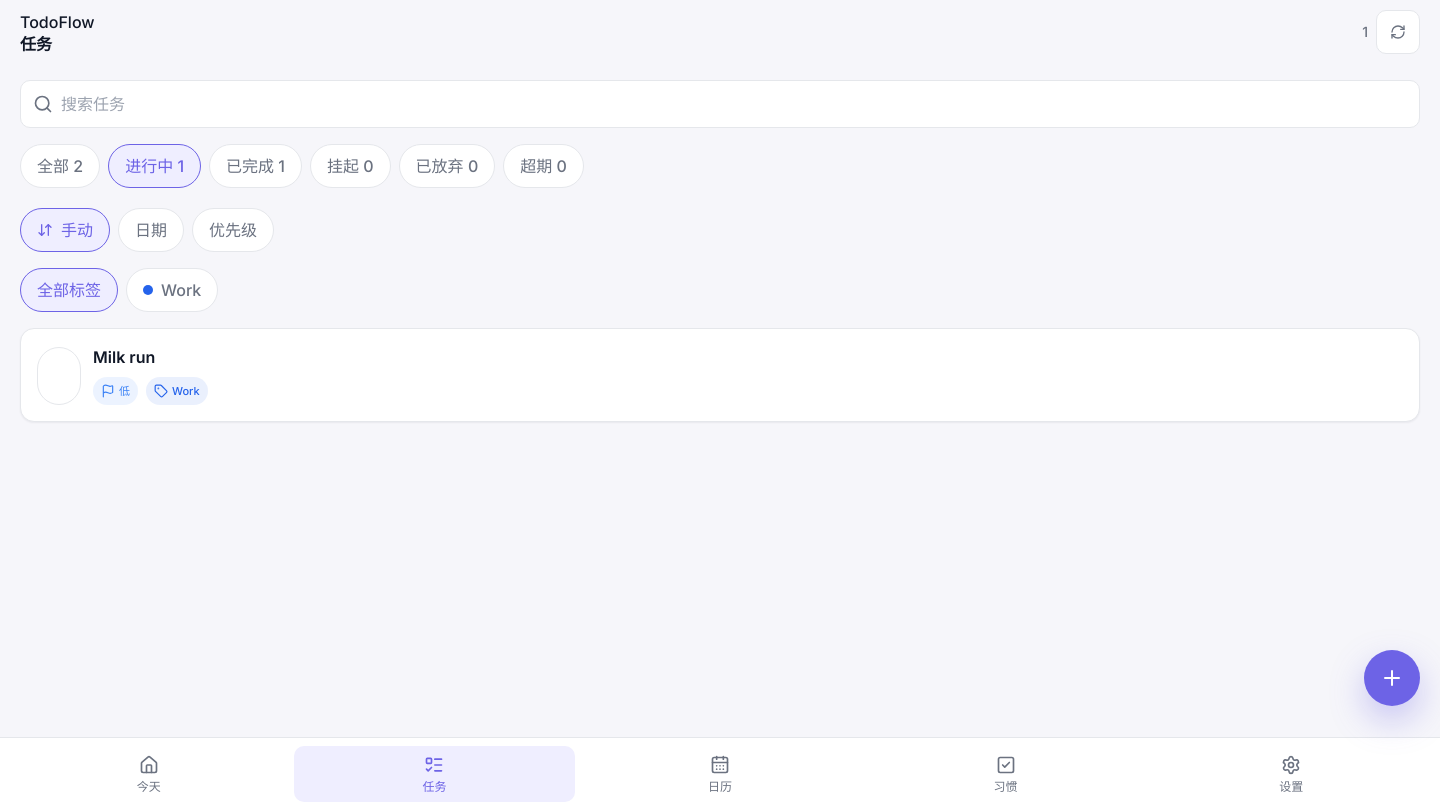
Scenario: Mobile task experience › filters, searches, sorts, and enters tags on the Tasks tab
Step 1. Type "Milk" into the field with placeholder "搜索任务" → {"x": 734, "y": 104}, box [61, 92, 1407, 116]
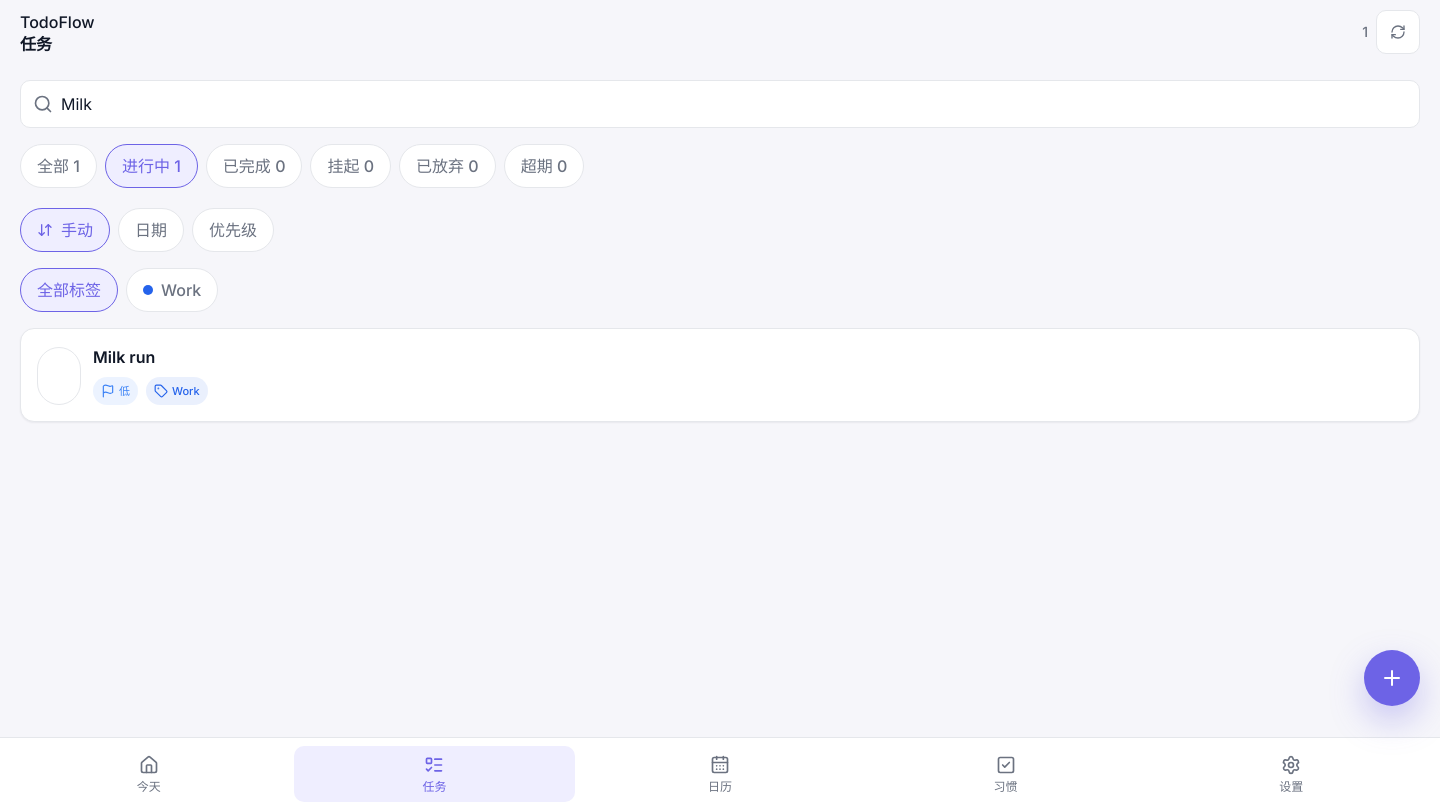
Expected: the heading "Milk run" is shown, [93, 347, 155, 367]
Expected: the text "Done item" is not shown
Step 2. Clear the field with placeholder "搜索任务" → {"x": 734, "y": 104}, box [61, 92, 1407, 116]
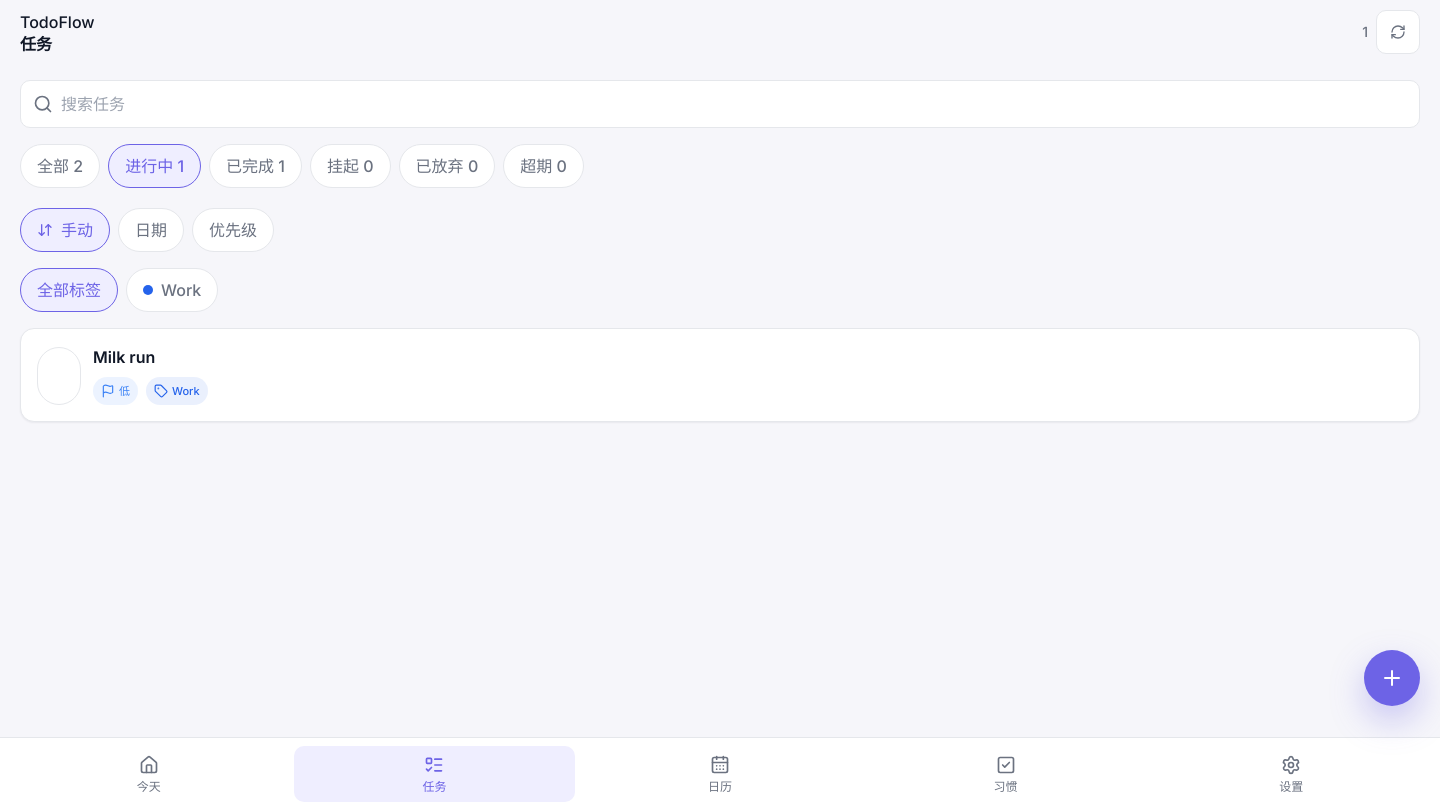
Step 3. Click the button "已完成 1" → {"x": 256, "y": 166}, box [209, 144, 302, 188]
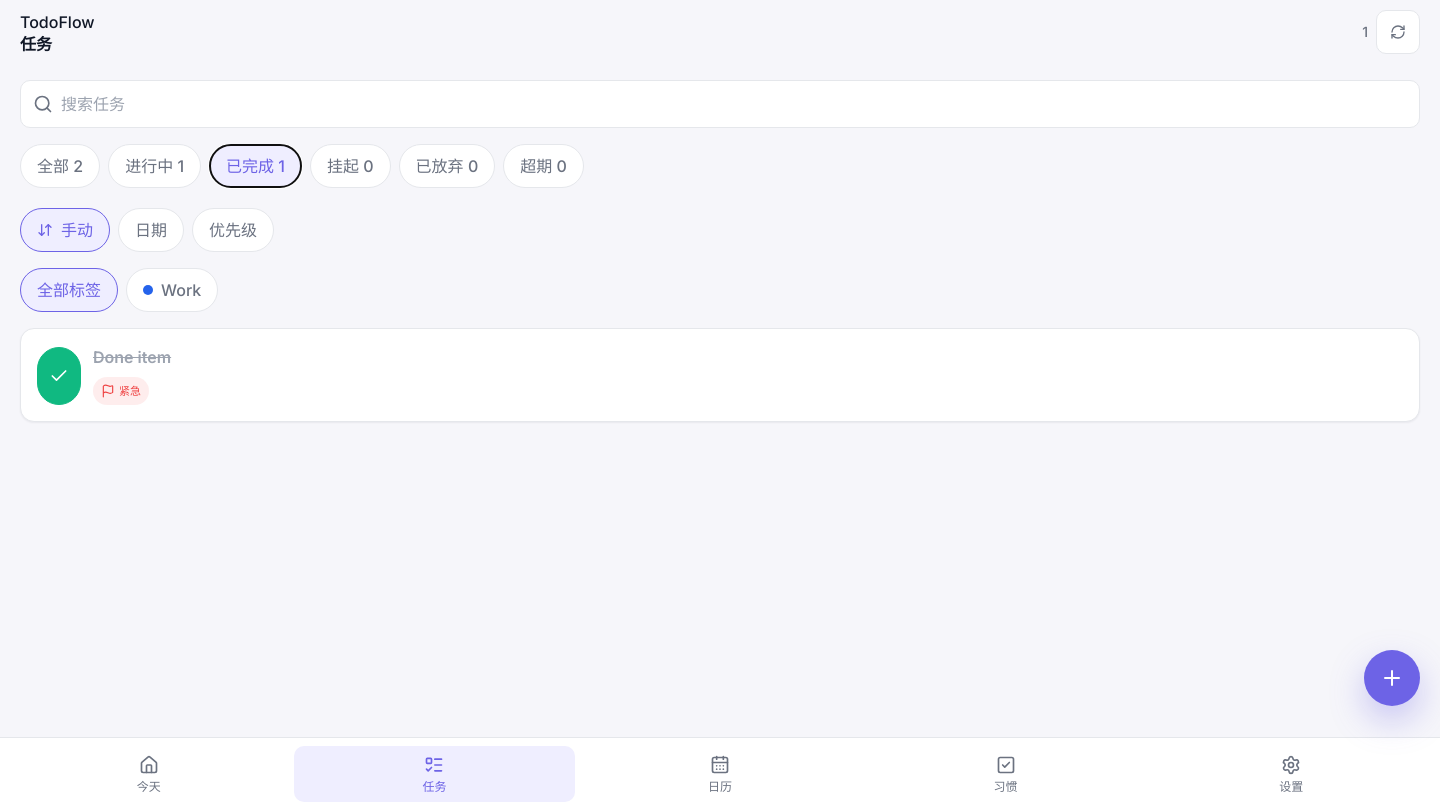
Result: the heading "Done item" is shown at [93, 347, 171, 367]
Step 4. Click the button "全部 2" → {"x": 60, "y": 166}, box [20, 144, 100, 188]
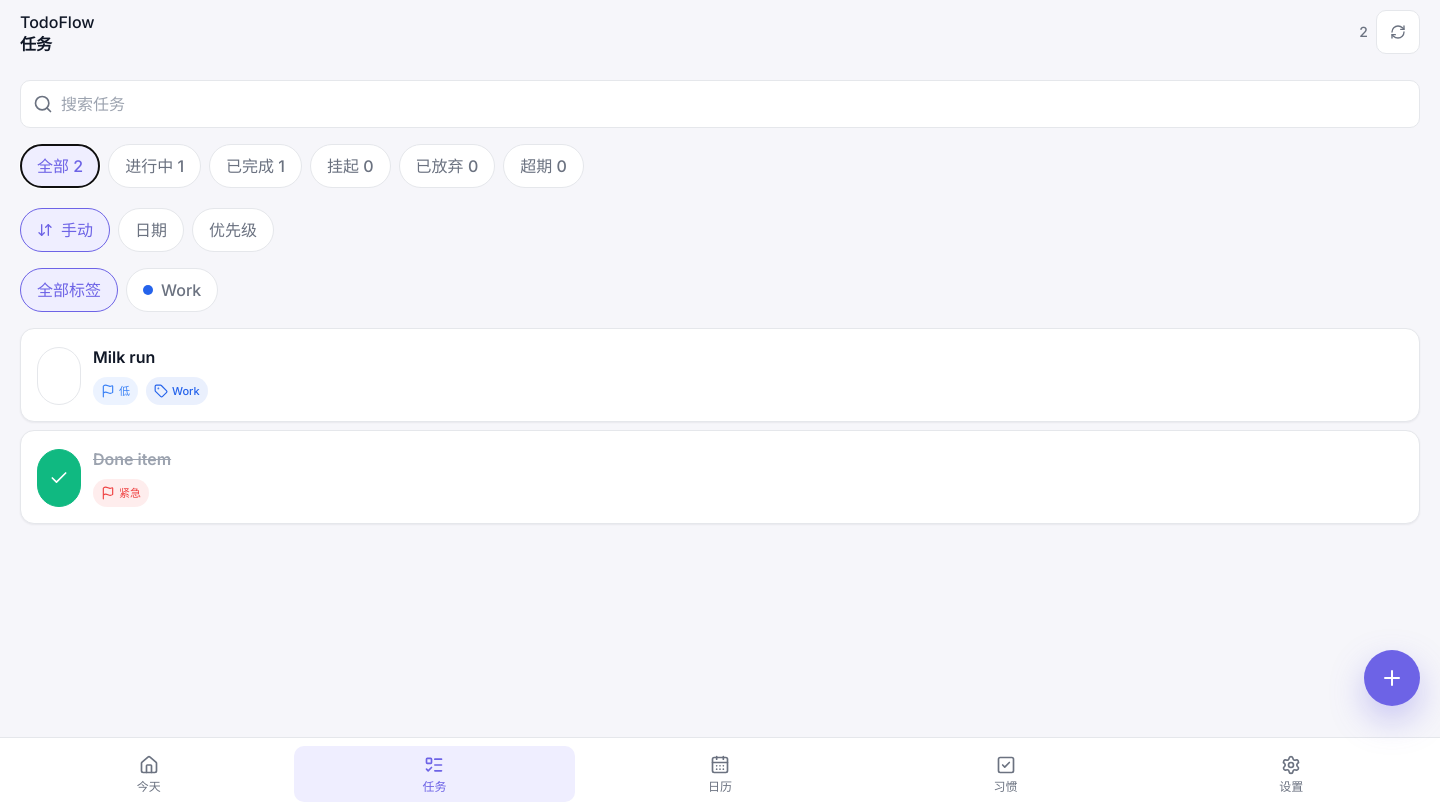
Step 5. Click the button "优先级" → {"x": 233, "y": 230}, box [192, 208, 274, 252]
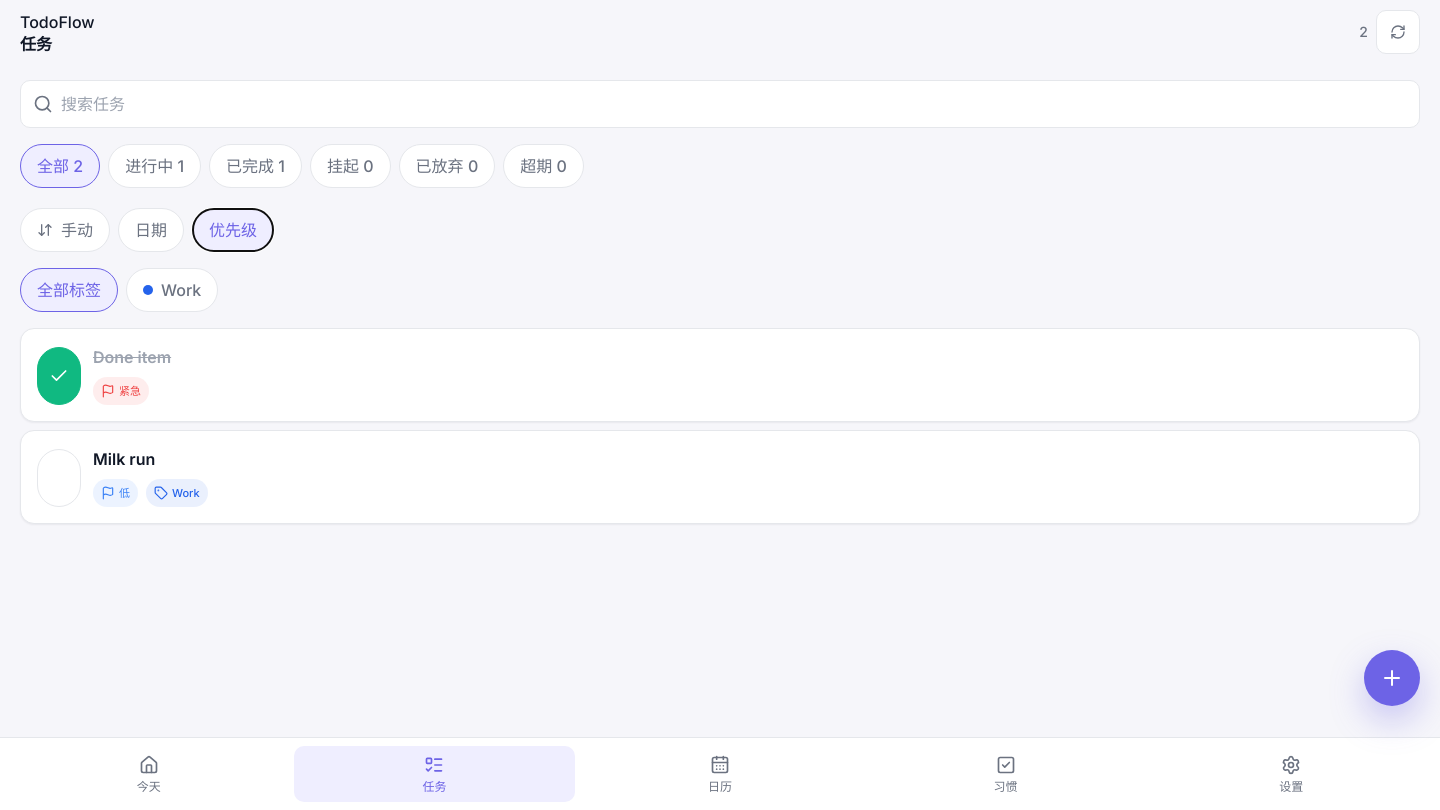
Step 6. Click the button "Work" → {"x": 172, "y": 290}, box [126, 268, 218, 312]
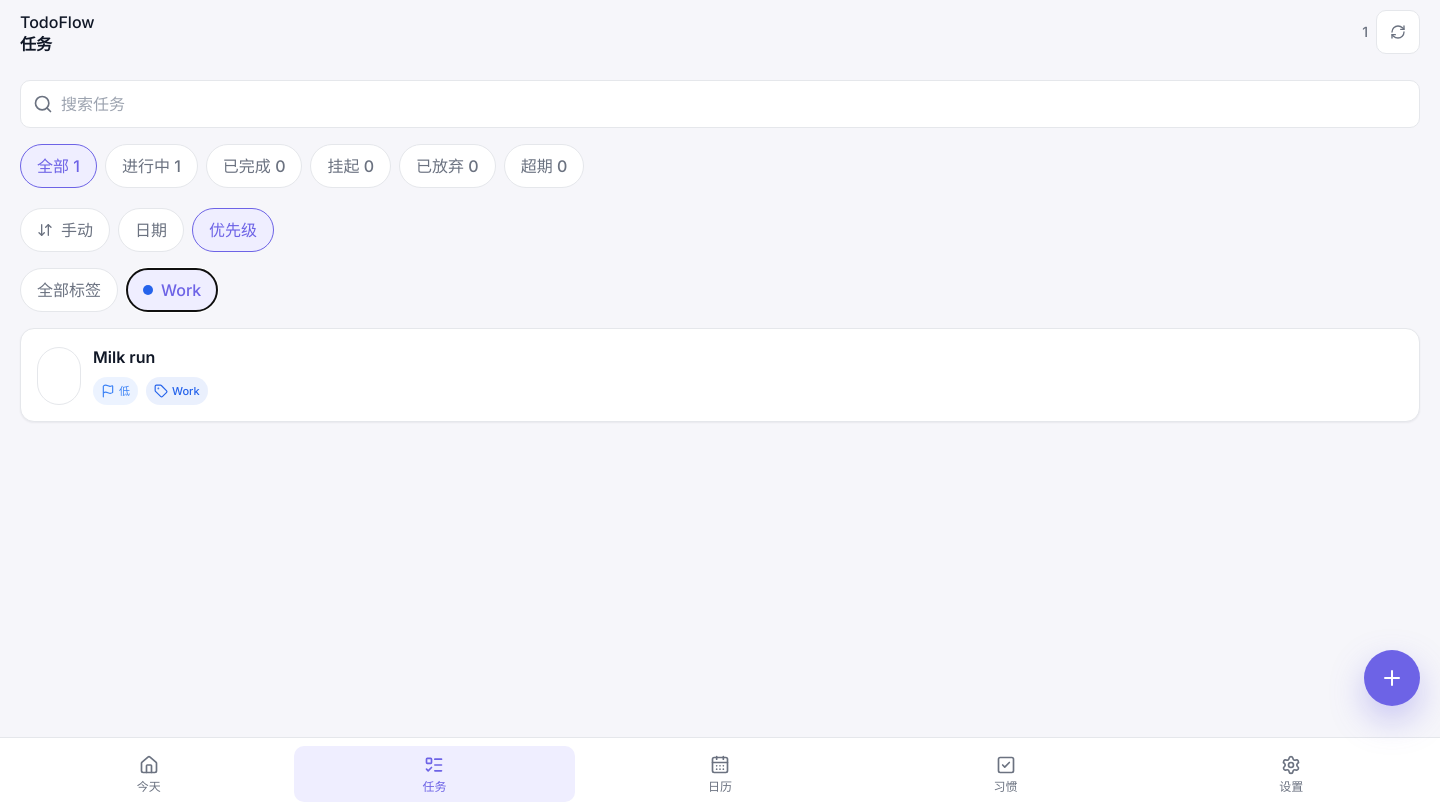
Result: the heading "Milk run" is shown at [93, 347, 155, 367]
Result: the button "Done item" is gone
